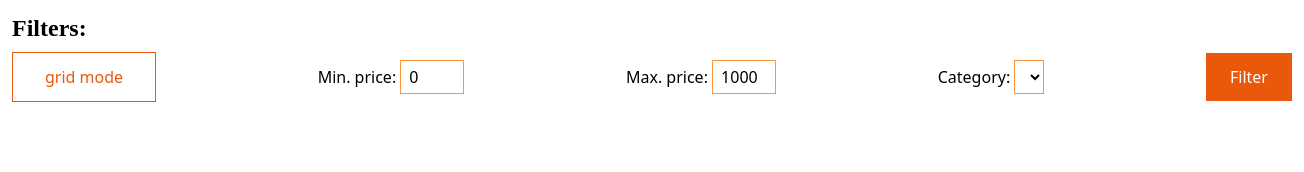
Test: Shop settings › listens to change event on maxPrice input correctly
Click the field labelled "Max. price:" at [744, 77], box top-left (712, 60), bottom-right (776, 94)
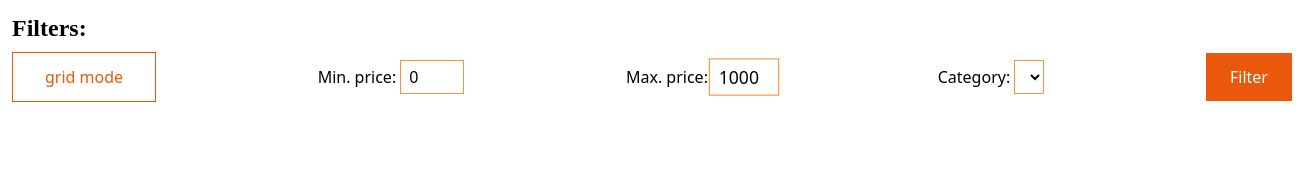
Clear the field labelled "Max. price:" at [744, 77], box top-left (709, 58), bottom-right (779, 96)
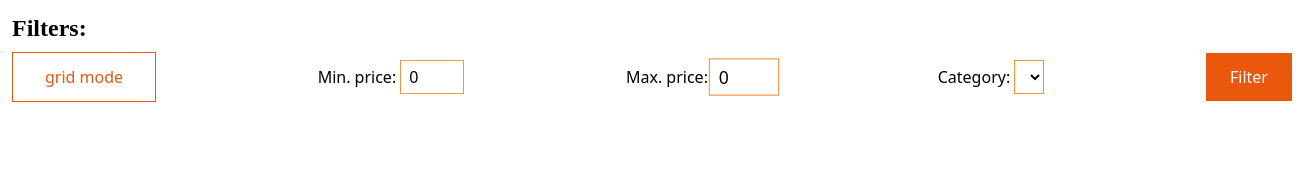
Type keys "20"
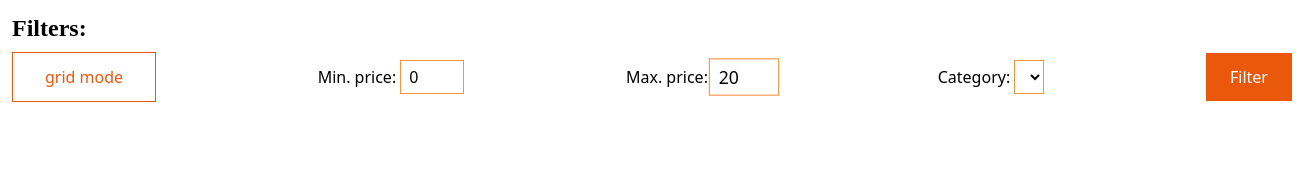
Result: the field labelled "Max. price:" holds "20" at top-left (709, 58), bottom-right (779, 96)
